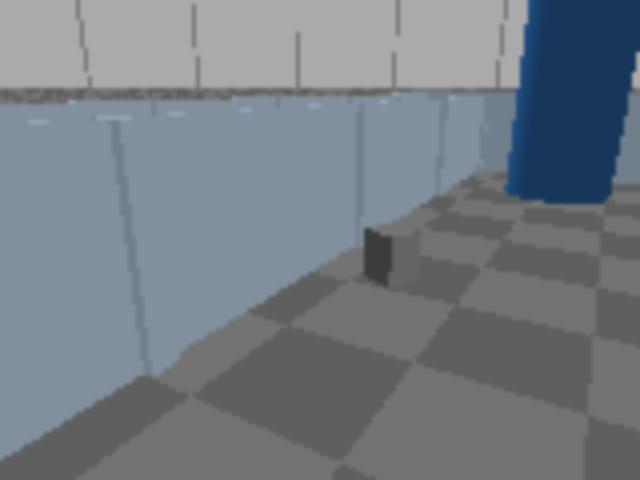obstacle: (364, 222, 422, 290)
